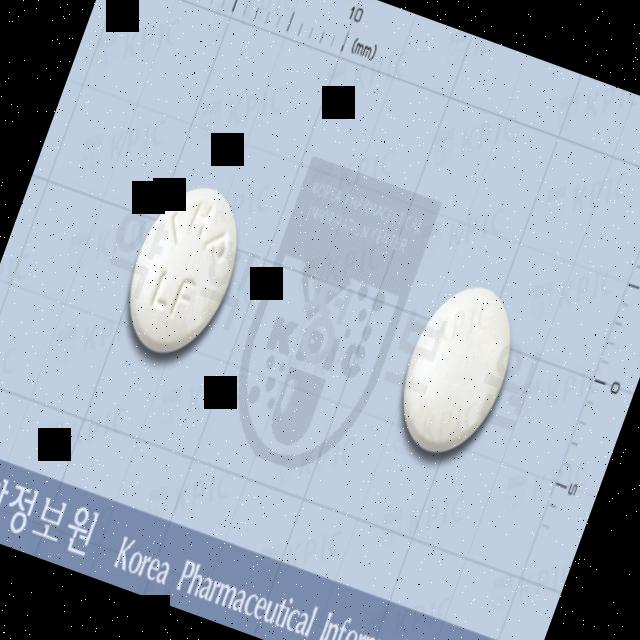Lesacin: (107, 168, 260, 370), (384, 269, 534, 471)
